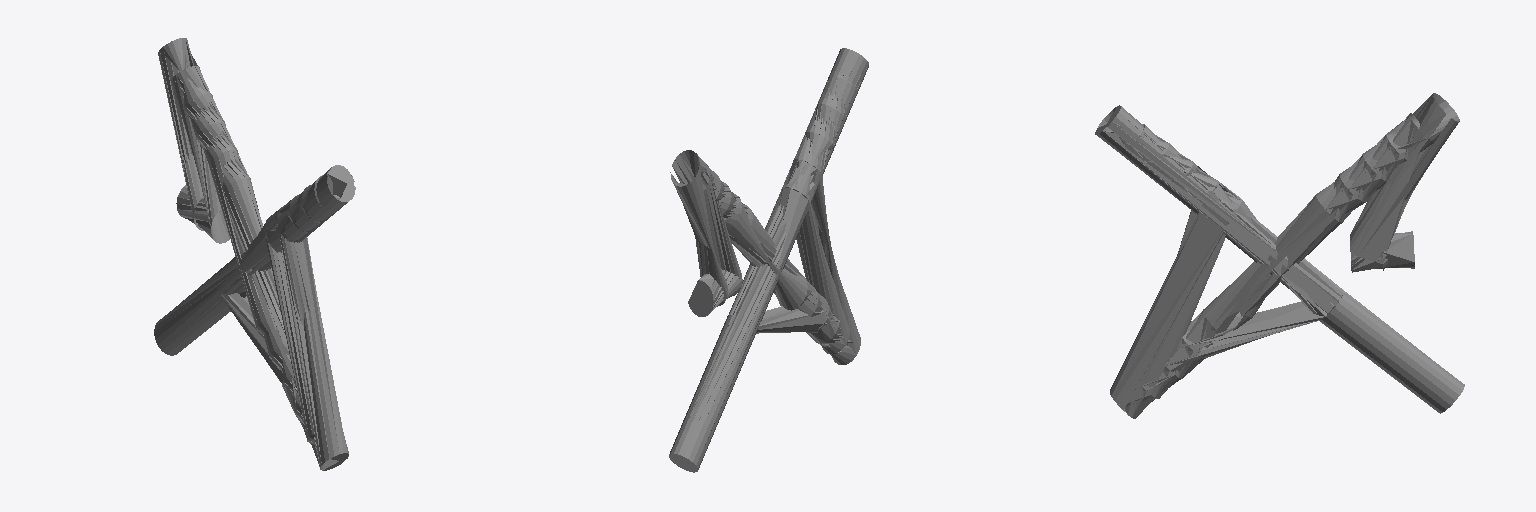
File: Cannon.obj
3 views of the same model, side by side, from view 1: azimuth 30°, elevation 25°; view 2: azimuth 150°, elevation 25°; view 3: azimuth 270°, elevation 25° (orthographic).
Parts seen in each view (by area): view 1: Sphere001, Torus003, Cylinder019, Tube001, Capsule001; view 2: Sphere001, Cylinder019, Torus003, Tube001; view 3: Sphere001, Cylinder019, Torus003, Tube001.
Part boxes in pixels (bbox=[...]): Sphere001: bbox=[155, 38, 348, 466]; Torus003: bbox=[170, 165, 355, 470]; Cylinder019: bbox=[154, 275, 230, 355]; Tube001: bbox=[217, 224, 278, 297]; Capsule001: bbox=[163, 166, 355, 349]; Sphere001: bbox=[670, 48, 866, 469]; Cylinder019: bbox=[669, 315, 754, 472]; Torus003: bbox=[669, 62, 868, 472]; Tube001: bbox=[751, 160, 820, 326]; Sphere001: bbox=[1097, 93, 1459, 418]; Cylinder019: bbox=[1320, 293, 1464, 412]; Torus003: bbox=[1095, 105, 1342, 418]; Tube001: bbox=[1210, 183, 1326, 316].
Bounding box in the file's own units: 3.11 × 26.56 × 27.54.